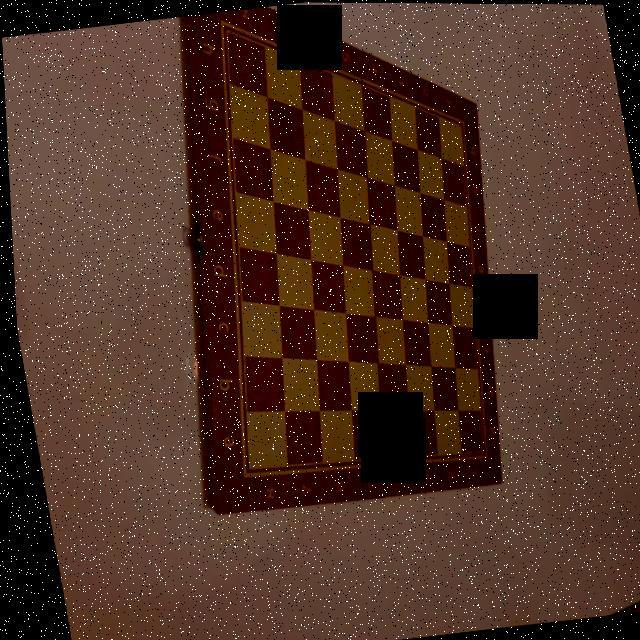chess-table-corners: (228, 462, 252, 488), (451, 109, 471, 137), (213, 12, 230, 34), (472, 446, 488, 464)
